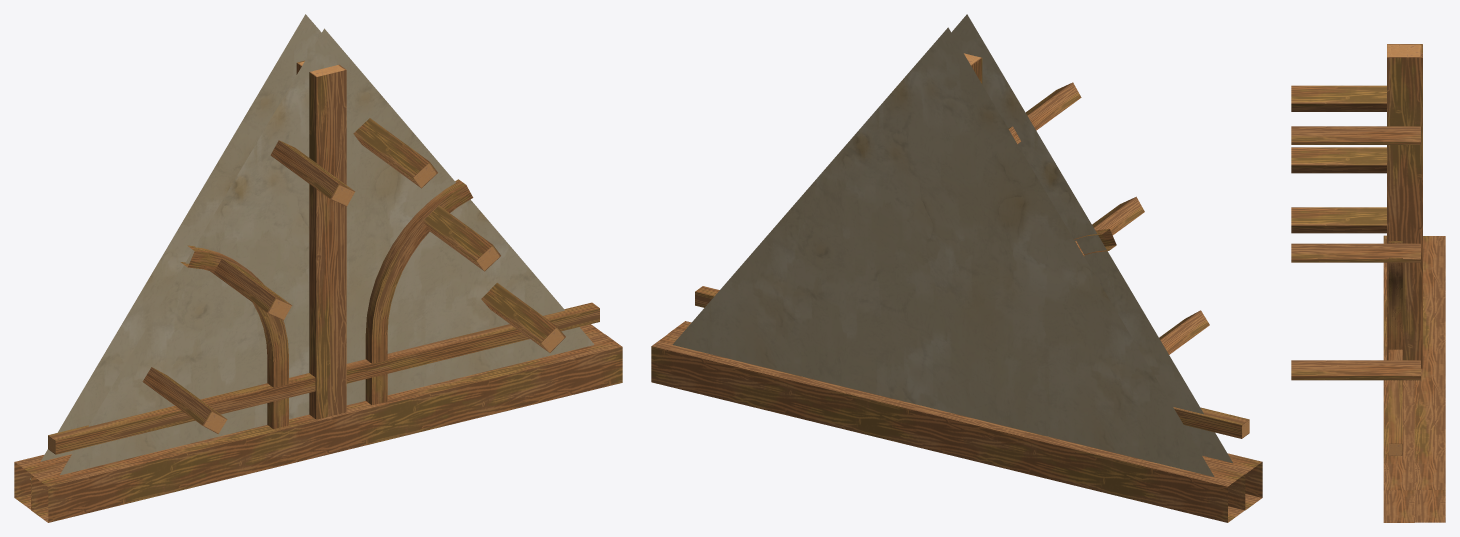
File: Roof_Front_Brick4.gltf
The picture shows the model from 3 angles, left to right: view 1: azimuth 30°, elevation 25°; view 2: azimuth 150°, elevation 25°; view 3: azimuth 270°, elevation 25°; orthographic projection. The views are drawn at different scales.
Visible parts, largest first — view 1: Roof_Front_Brick4; view 2: Roof_Front_Brick4; view 3: Roof_Front_Brick4.
Boxes of the visible parts, bbox=[...] form: Roof_Front_Brick4: bbox=[14, 14, 622, 522]; Roof_Front_Brick4: bbox=[651, 14, 1262, 522]; Roof_Front_Brick4: bbox=[1291, 44, 1445, 522].
Bounding box in the file's own units: 4.4 × 3.07 × 1.13.
2 materials, 2 textured.
